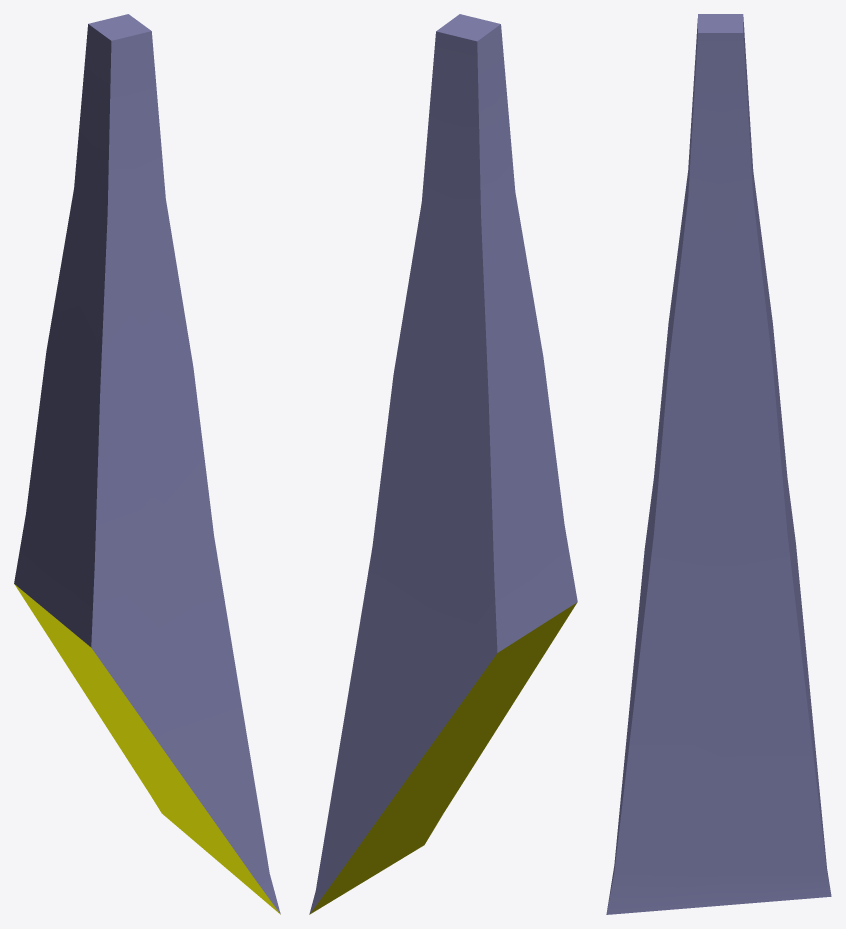
File: CB1Shard1.fbx
The picture shows the model from 3 angles, left to right: view 1: azimuth 30°, elevation 25°; view 2: azimuth 150°, elevation 25°; view 3: azimuth 270°, elevation 25°; orthographic projection. The views are drawn at different scales.
Visible parts, largest first — view 1: shard7; view 2: shard7; view 3: shard7.
Part boxes in pixels (left/top/right/bottom): shard7: left=14, top=14, right=280, bottom=914; shard7: left=309, top=14, right=577, bottom=914; shard7: left=606, top=14, right=831, bottom=914.
Size of the model in its own units: 0.00379 by 0.0185 by 0.00449.
Materials: 2 (1 with a texture image).
